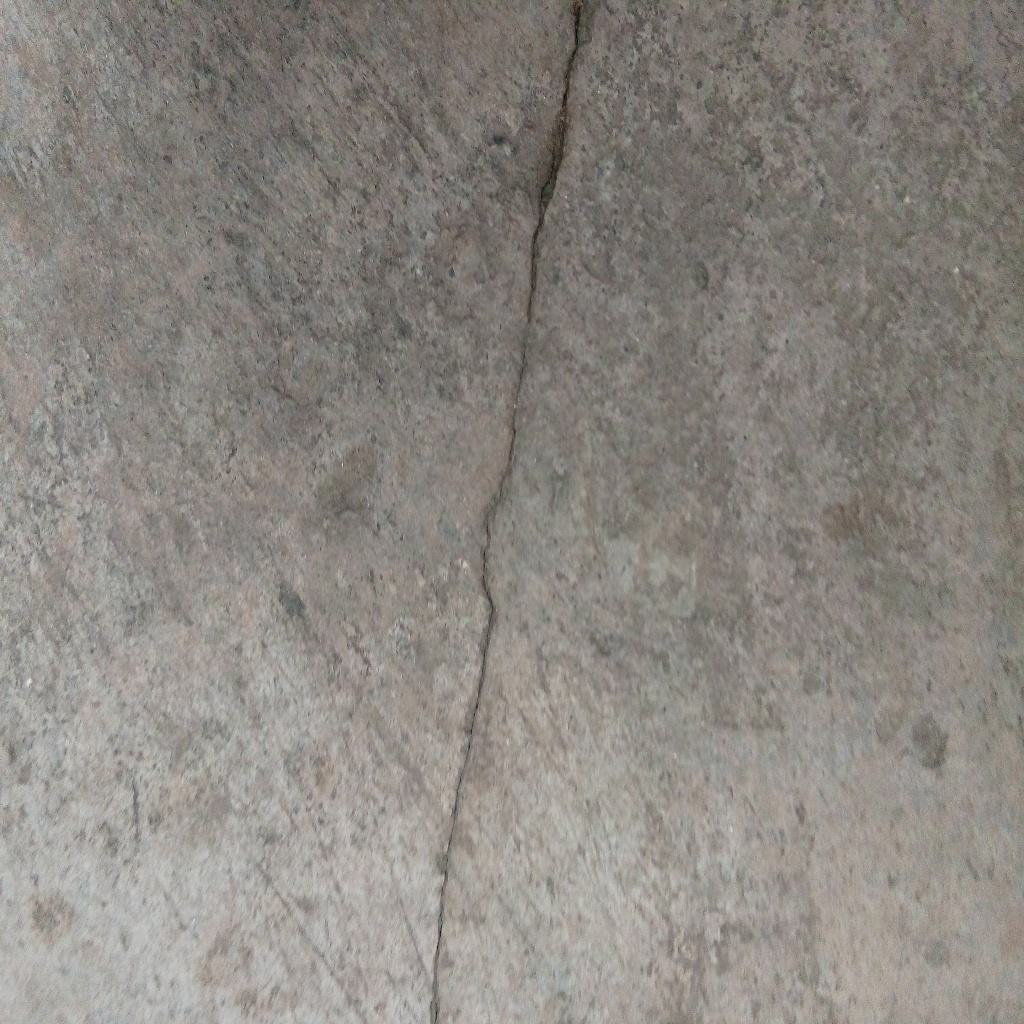Crack: (427, 1, 597, 1024)
